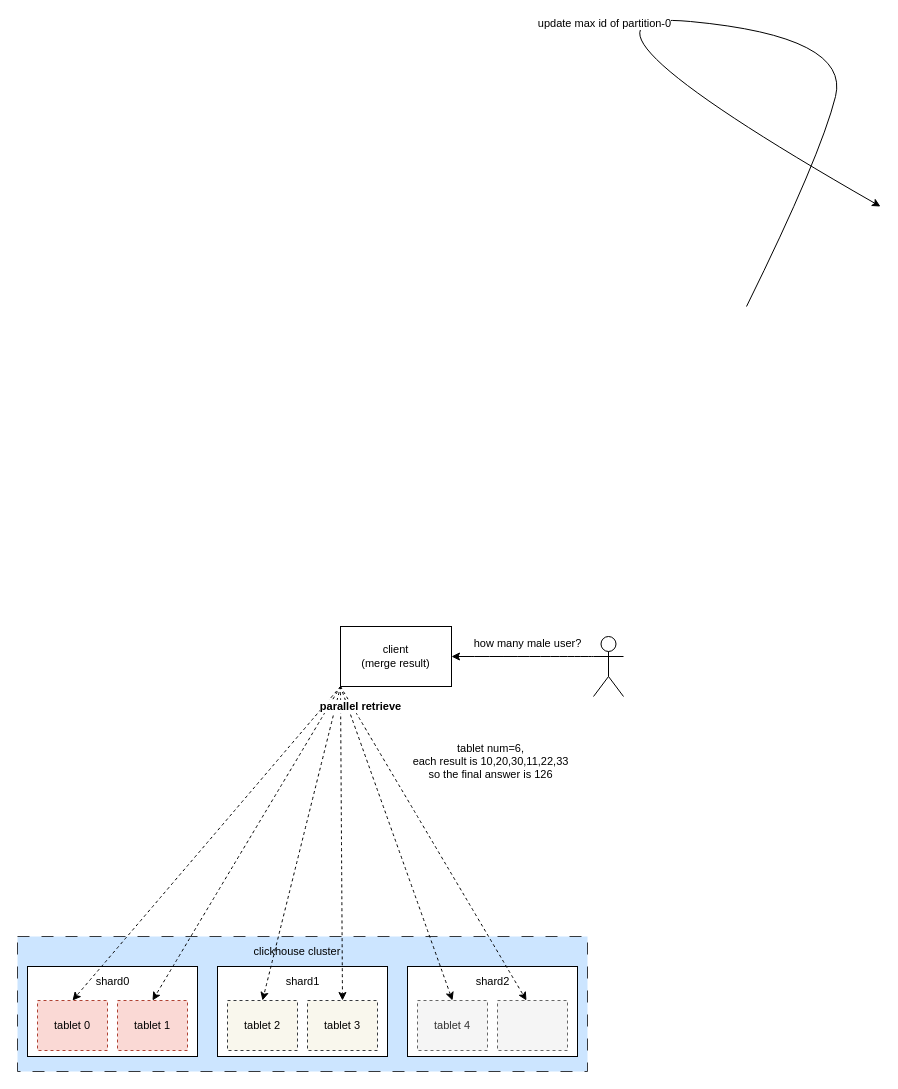
This 898x1089 diagram has some shape labels left out. The shapes that lost their labels are listed below. From the top down, each one's centre as x and y in pixels, then its label:
At [608,666]: "Actor".
At [532,1025]: "tablet 5".
